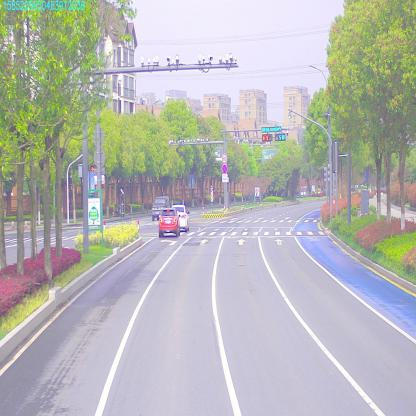traffic-light: (261, 126, 282, 130), (275, 135, 285, 143), (262, 134, 271, 142)
